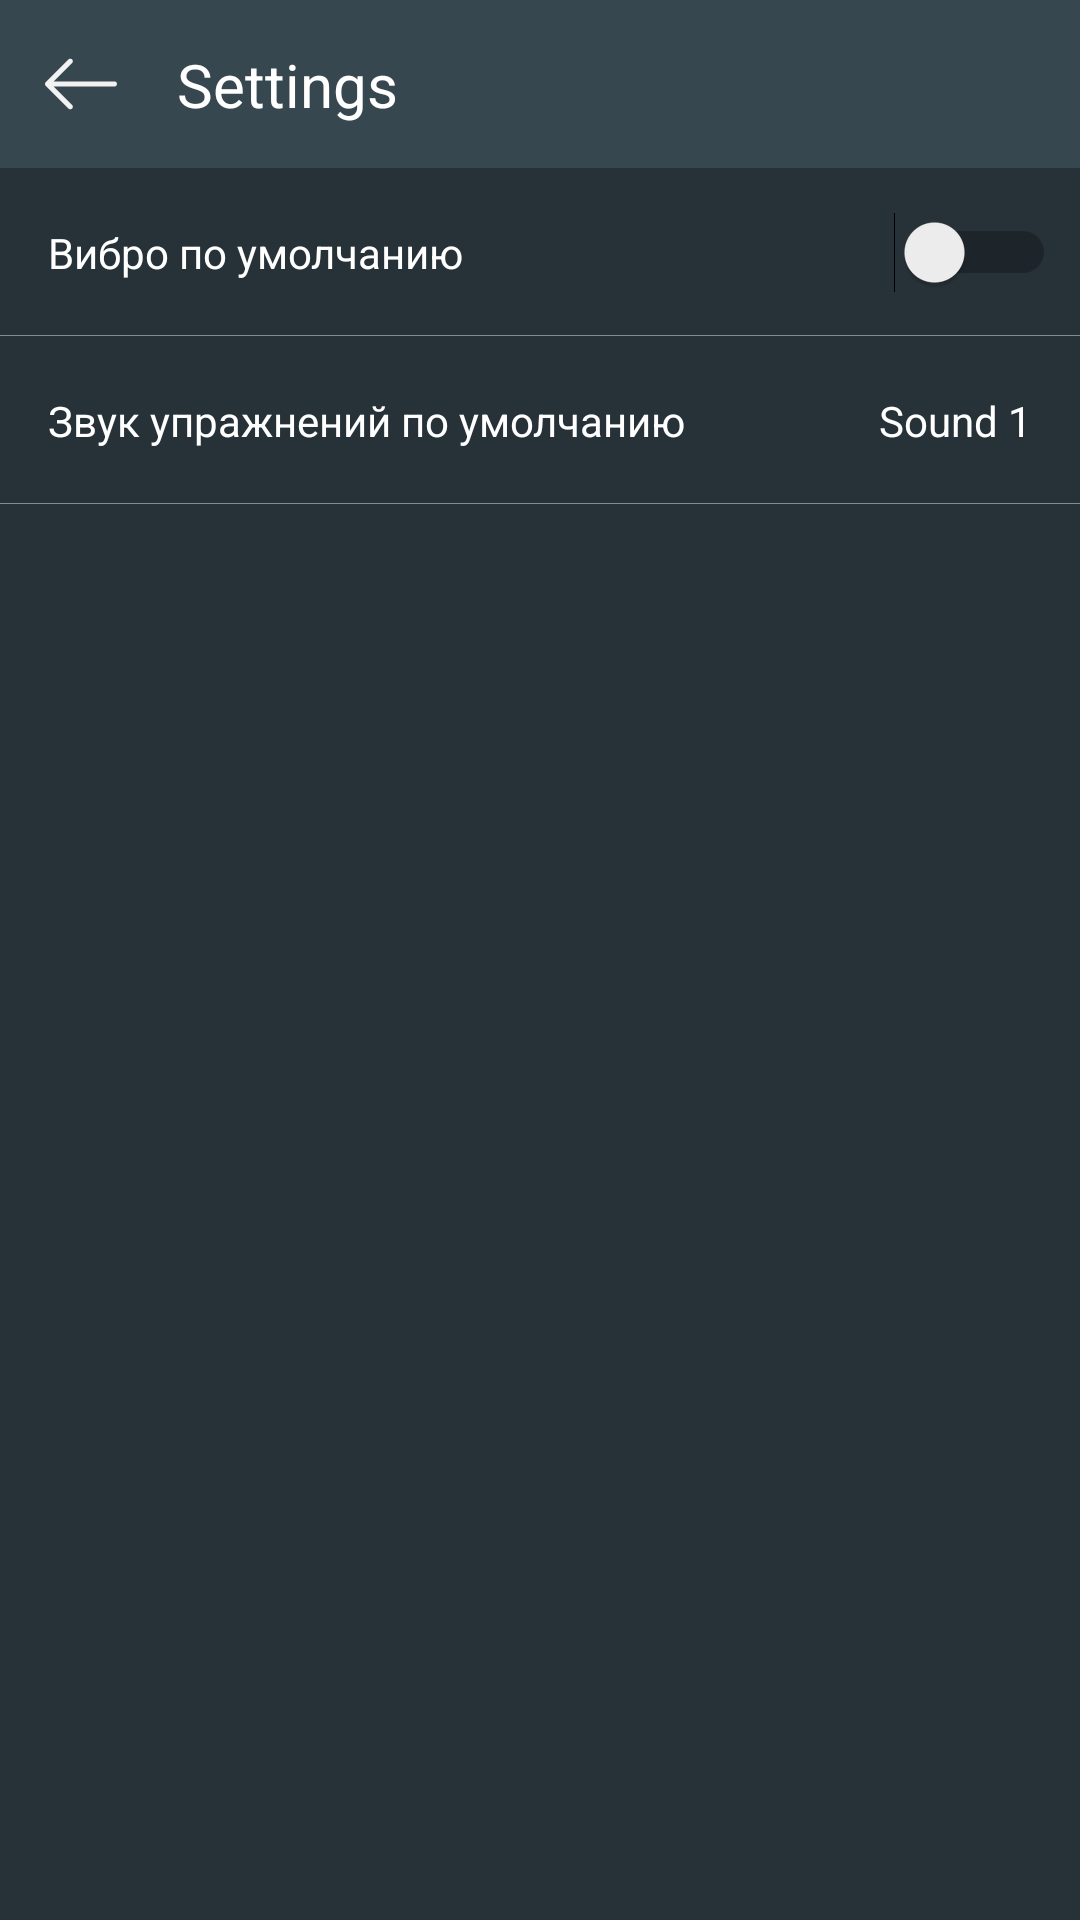

Locate icon controls on the screen. Image size 1080x1920, boxes as bbox(x1, y1, x2, y2).
back: bbox(45, 58, 117, 110)
